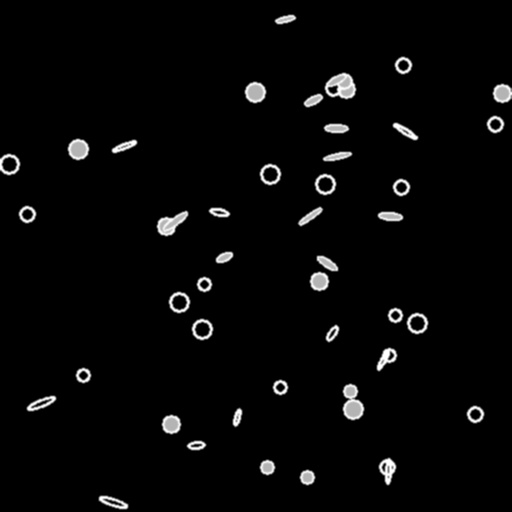pseudomonas: (162, 210, 188, 232), (26, 394, 56, 412), (298, 206, 322, 226), (392, 122, 418, 140), (315, 254, 339, 272), (99, 495, 127, 509), (111, 139, 137, 153), (323, 151, 351, 161), (303, 93, 323, 107), (326, 73, 346, 87), (376, 350, 390, 370), (215, 250, 233, 264), (325, 325, 339, 341), (209, 207, 229, 217), (325, 124, 347, 132), (379, 212, 401, 220), (385, 458, 391, 484), (276, 15, 294, 23), (187, 441, 205, 449), (233, 409, 241, 425)
synechocystis: (316, 175, 334, 193), (261, 165, 279, 183), (246, 83, 264, 101), (193, 320, 211, 338), (408, 314, 426, 332), (0, 155, 18, 173), (170, 293, 188, 311), (69, 140, 87, 158), (344, 400, 362, 418), (311, 273, 327, 289), (494, 85, 510, 101), (158, 218, 174, 234), (338, 81, 354, 97), (163, 416, 179, 432), (20, 207, 34, 221), (380, 460, 394, 474), (326, 81, 340, 95), (337, 74, 351, 88), (468, 407, 482, 421), (394, 180, 408, 194), (396, 58, 410, 72), (488, 117, 502, 131), (389, 309, 401, 321), (261, 461, 273, 473), (77, 369, 89, 381), (301, 471, 313, 483), (198, 278, 210, 290), (383, 349, 395, 361), (344, 385, 356, 397), (274, 381, 286, 393)
